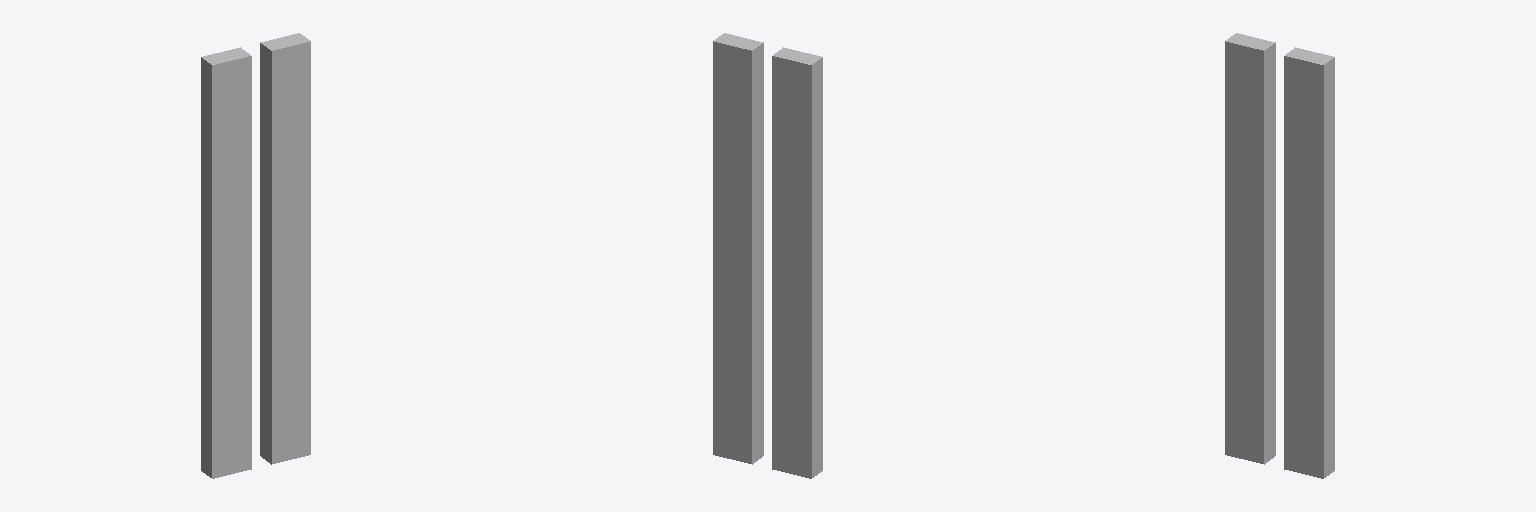
Rendered from Wood Plank.obj.
3 views of the same model, side by side, from view 1: azimuth 30°, elevation 25°; view 2: azimuth 150°, elevation 25°; view 3: azimuth 330°, elevation 25° (orthographic).
Parts seen in each view (by area): view 1: object 1; view 2: object 1; view 3: object 1.
Part boxes in pixels (x1,y1,x2,y2): object 1: (201,33,310,478); object 1: (713,33,822,478); object 1: (1225,33,1334,478).
Bounding box in the file's own units: 1 × 4 × 0.2.